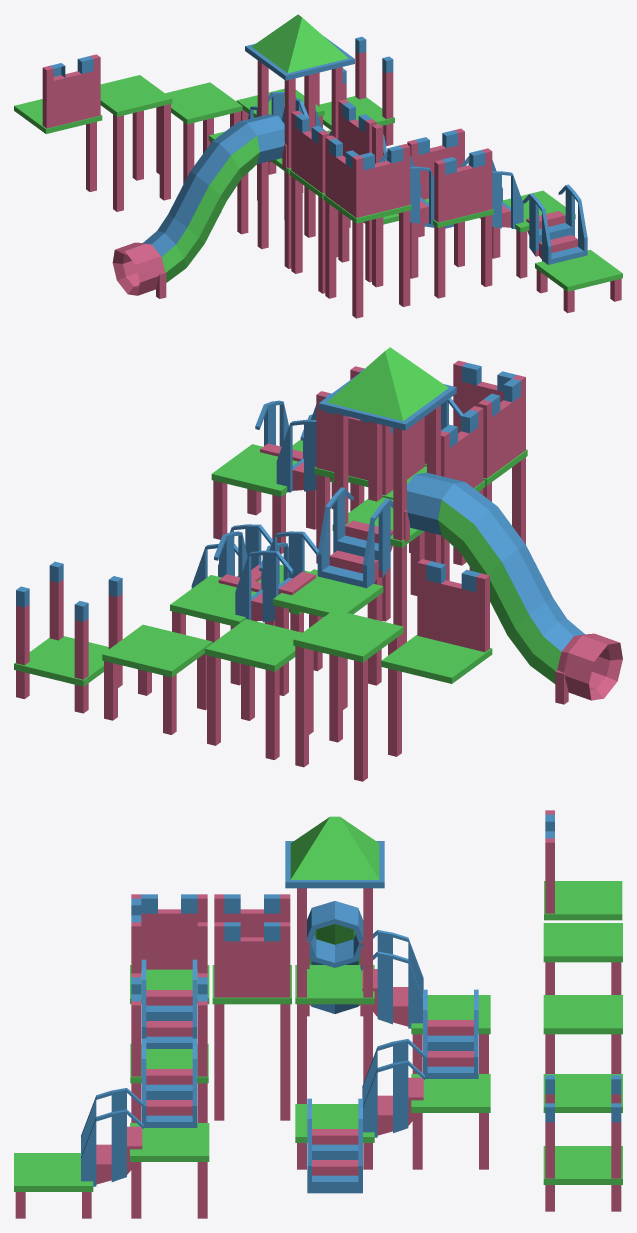
File: Playground.fbx
3 views of the same model, one above another, from view 1: azimuth 30°, elevation 25°; view 2: azimuth 150°, elevation 25°; view 3: azimuth 270°, elevation 25° (orthographic). The views are drawn at different scales.
Parts seen in each view (by area): view 1: Cube.024, Cube.021, Cube.014, Cube.023, Cube.002, Cube.029, Cube.003, Cube.007, Cube.027, Cube.030, Cube.028, Cube.031 (+12 smaller); view 2: Cube.024, Cube.021, Cube.002, Cube.007, Cube.014, Cube.008, Cube.003, Cube.010, Cube.025, Cube.013, Cube.018, Cube.000 (+16 smaller); view 3: Cube.003, Cube.021, Cube.014, Cube.020, Cube.022, Cube.027, Cube.017, Cube.002, Cube.024, Cube.025, Cube.004, Cube.026 (+17 smaller).
Part boxes in pixels (<box>): Cube.024: <box>112,114,286,298</box>; Cube.021: <box>245,14,354,168</box>; Cube.014: <box>323,124,411,223</box>; Cube.023: <box>407,128,493,227</box>; Cube.002: <box>14,54,102,133</box>; Cube.029: <box>325,201,410,318</box>; Cube.003: <box>290,99,376,198</box>; Cube.007: <box>86,104,170,211</box>; Cube.027: <box>523,184,587,264</box>; Cube.030: <box>291,176,371,293</box>; Cube.028: <box>535,249,622,313</box>; Cube.031: <box>410,215,492,298</box>; Cube.024: <box>404,472,622,704</box>; Cube.021: <box>318,347,456,540</box>; Cube.002: <box>381,559,492,683</box>; Cube.007: <box>295,634,401,781</box>; Cube.014: <box>424,360,527,485</box>; Cube.008: <box>317,487,393,588</box>; Cube.003: <box>382,406,485,499</box>; Cube.010: <box>273,569,383,709</box>; Cube.025: <box>211,444,316,554</box>; Cube.013: <box>16,561,122,679</box>; Cube.018: <box>235,531,319,622</box>; Cube.000: <box>207,649,313,759</box>; Cube.003: <box>212,894,291,1004</box>; Cube.021: <box>285,816,384,997</box>; Cube.014: <box>130,894,209,1004</box>; Cube.020: <box>295,965,374,1103</box>; Cube.022: <box>307,1098,362,1193</box>; Cube.027: <box>81,1088,143,1186</box>; Cube.017: <box>362,1039,424,1137</box>; Cube.002: <box>544,810,622,920</box>; Cube.024: <box>307,901,363,1016</box>; Cube.025: <box>130,1123,209,1218</box>; Cube.004: <box>411,1074,490,1169</box>; Cube.026: <box>141,1038,197,1127</box>.
Size of the model in its own units: 3134 by 1936 by 3680.
